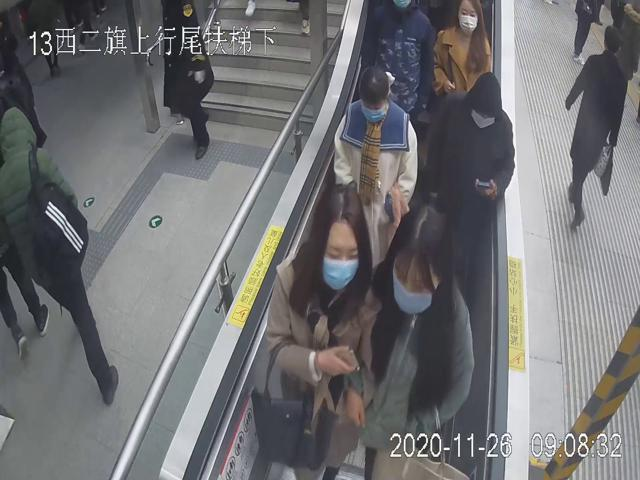person: (0, 108, 117, 406), (262, 180, 369, 480), (368, 200, 475, 480), (332, 64, 418, 275), (424, 71, 515, 265), (563, 13, 629, 233), (433, 2, 493, 102)
